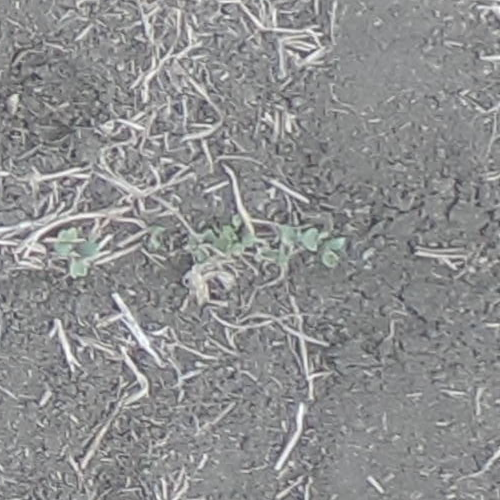plant: (53, 227, 100, 280), (222, 214, 254, 257), (277, 223, 320, 254), (187, 231, 221, 261), (320, 235, 346, 269)
